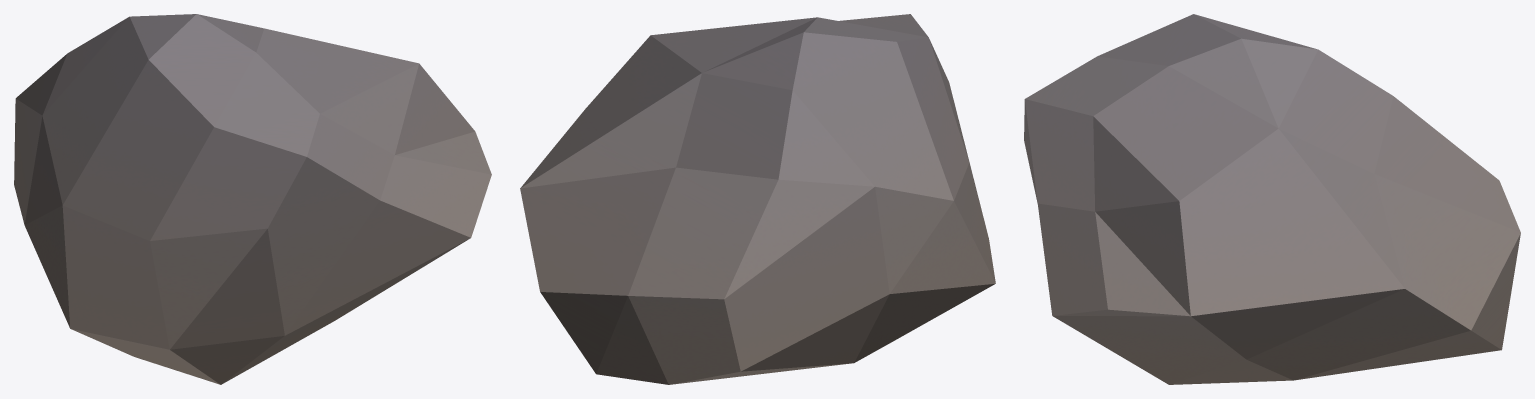
The model's file is stone1.glb.
3 views of the same model, side by side, from view 1: azimuth 30°, elevation 25°; view 2: azimuth 150°, elevation 25°; view 3: azimuth 270°, elevation 25° (orthographic). The views are drawn at different scales.
Parts seen in each view (by area): view 1: stone1; view 2: stone1; view 3: stone1.
Part boxes in pixels (x1,y1,x2,y2): stone1: (14, 14, 491, 384); stone1: (520, 14, 995, 384); stone1: (1024, 14, 1520, 384).
Size of the model in its own units: 0.542 by 0.4067 by 0.5733.
Materials: 1 (1 with a texture image).
